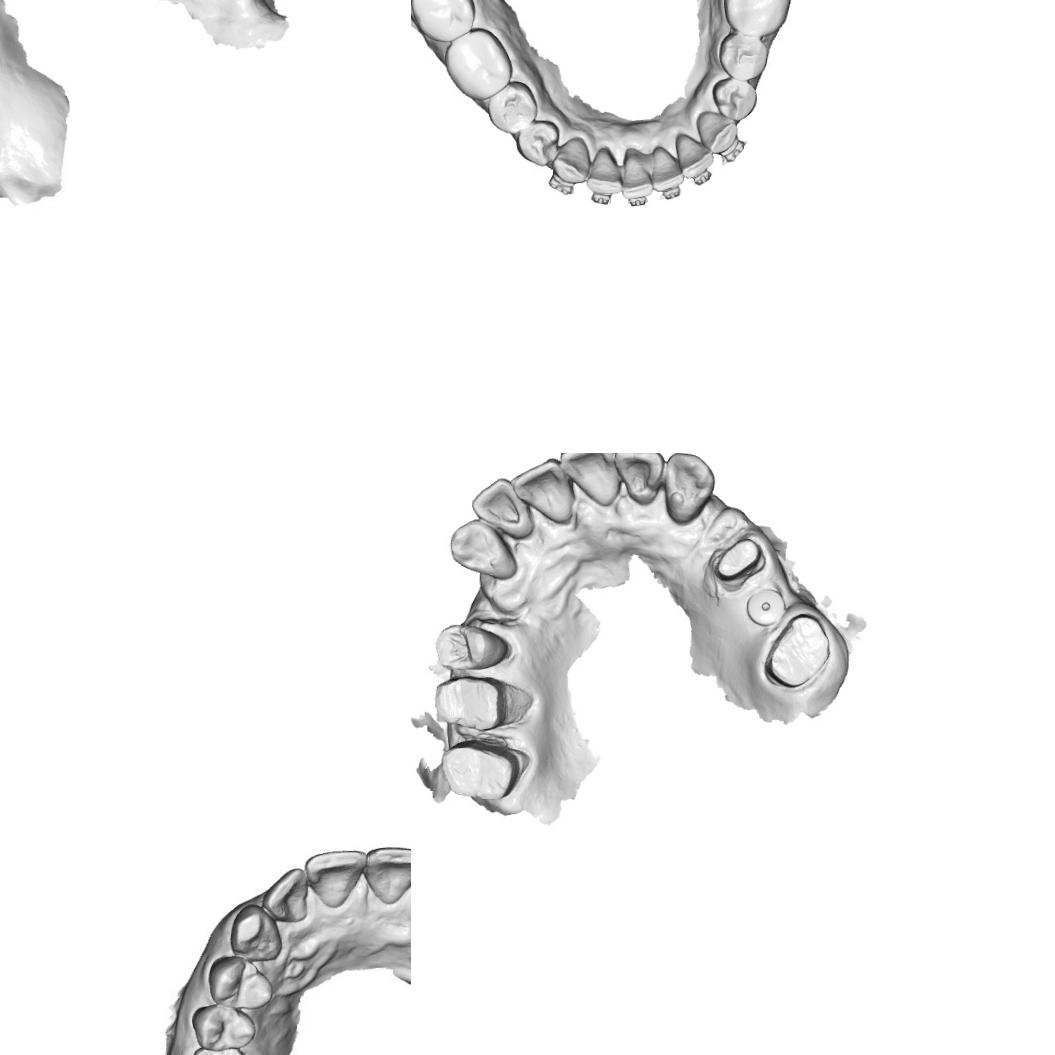canine: (447, 516, 522, 583), (659, 453, 717, 527), (225, 900, 284, 962), (549, 134, 591, 188), (694, 108, 740, 156)
crown: (435, 737, 523, 804), (763, 609, 834, 691), (430, 674, 510, 732), (708, 534, 767, 584)
implant: (742, 585, 788, 628)
incisor: (505, 455, 578, 525), (468, 474, 536, 541), (302, 845, 368, 909), (555, 453, 623, 509), (360, 841, 411, 911), (262, 864, 313, 924), (611, 453, 664, 507), (671, 130, 716, 180), (584, 144, 622, 196), (649, 143, 686, 194), (620, 152, 654, 201)
molar: (442, 26, 516, 104), (411, 0, 478, 45), (719, 0, 793, 36)
premolar: (205, 954, 276, 1011), (434, 622, 508, 674), (188, 1001, 258, 1052), (486, 78, 540, 137), (715, 32, 771, 82), (514, 117, 562, 168), (709, 76, 759, 122)
